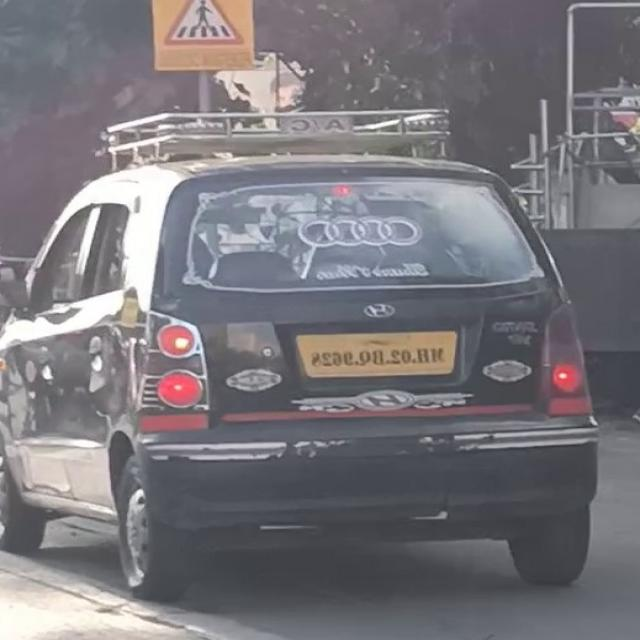license_plate: (286, 320, 467, 384)
